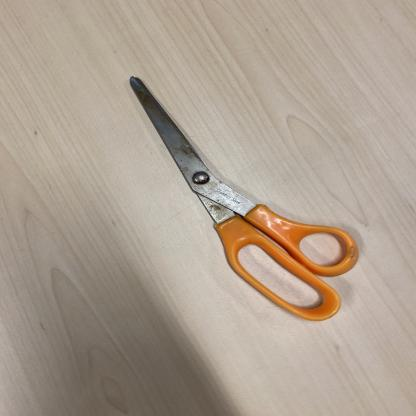scissors: (127, 77, 362, 321)
